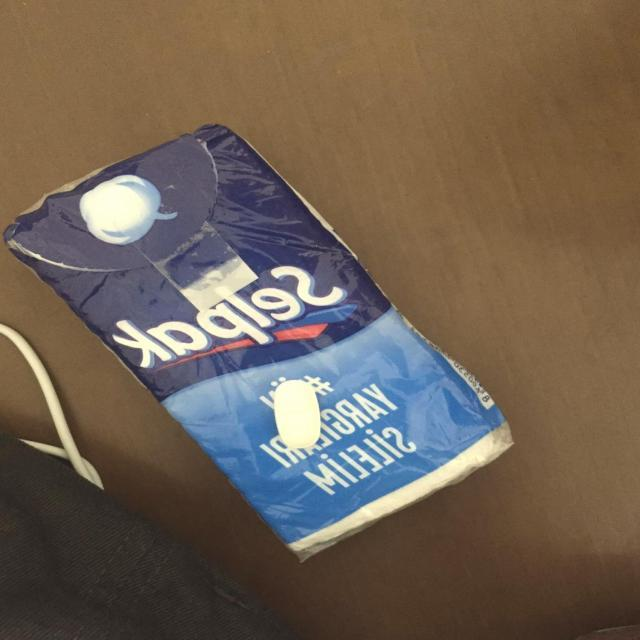pill: (263, 380, 327, 450)
